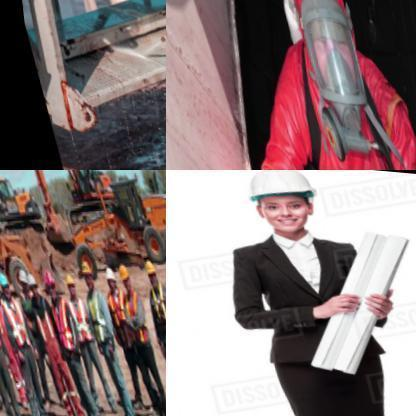vest: (244, 9, 415, 169), (58, 285, 93, 341), (42, 290, 73, 349), (0, 290, 31, 346), (77, 286, 110, 338), (99, 282, 128, 337), (116, 281, 144, 336)
